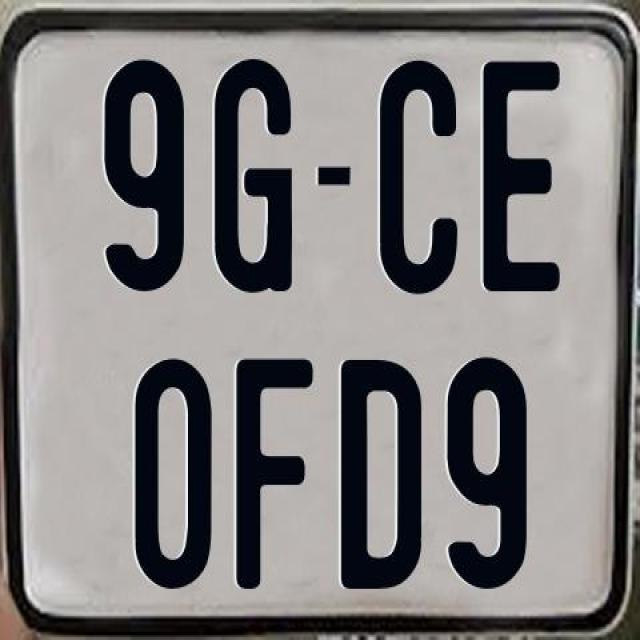0: (133, 353, 214, 584)
9: (446, 354, 528, 588), (104, 59, 184, 293)
C: (376, 56, 454, 299)
D: (338, 360, 426, 598)
E: (478, 59, 558, 290)
F: (232, 357, 315, 592)
G: (213, 57, 292, 300)
